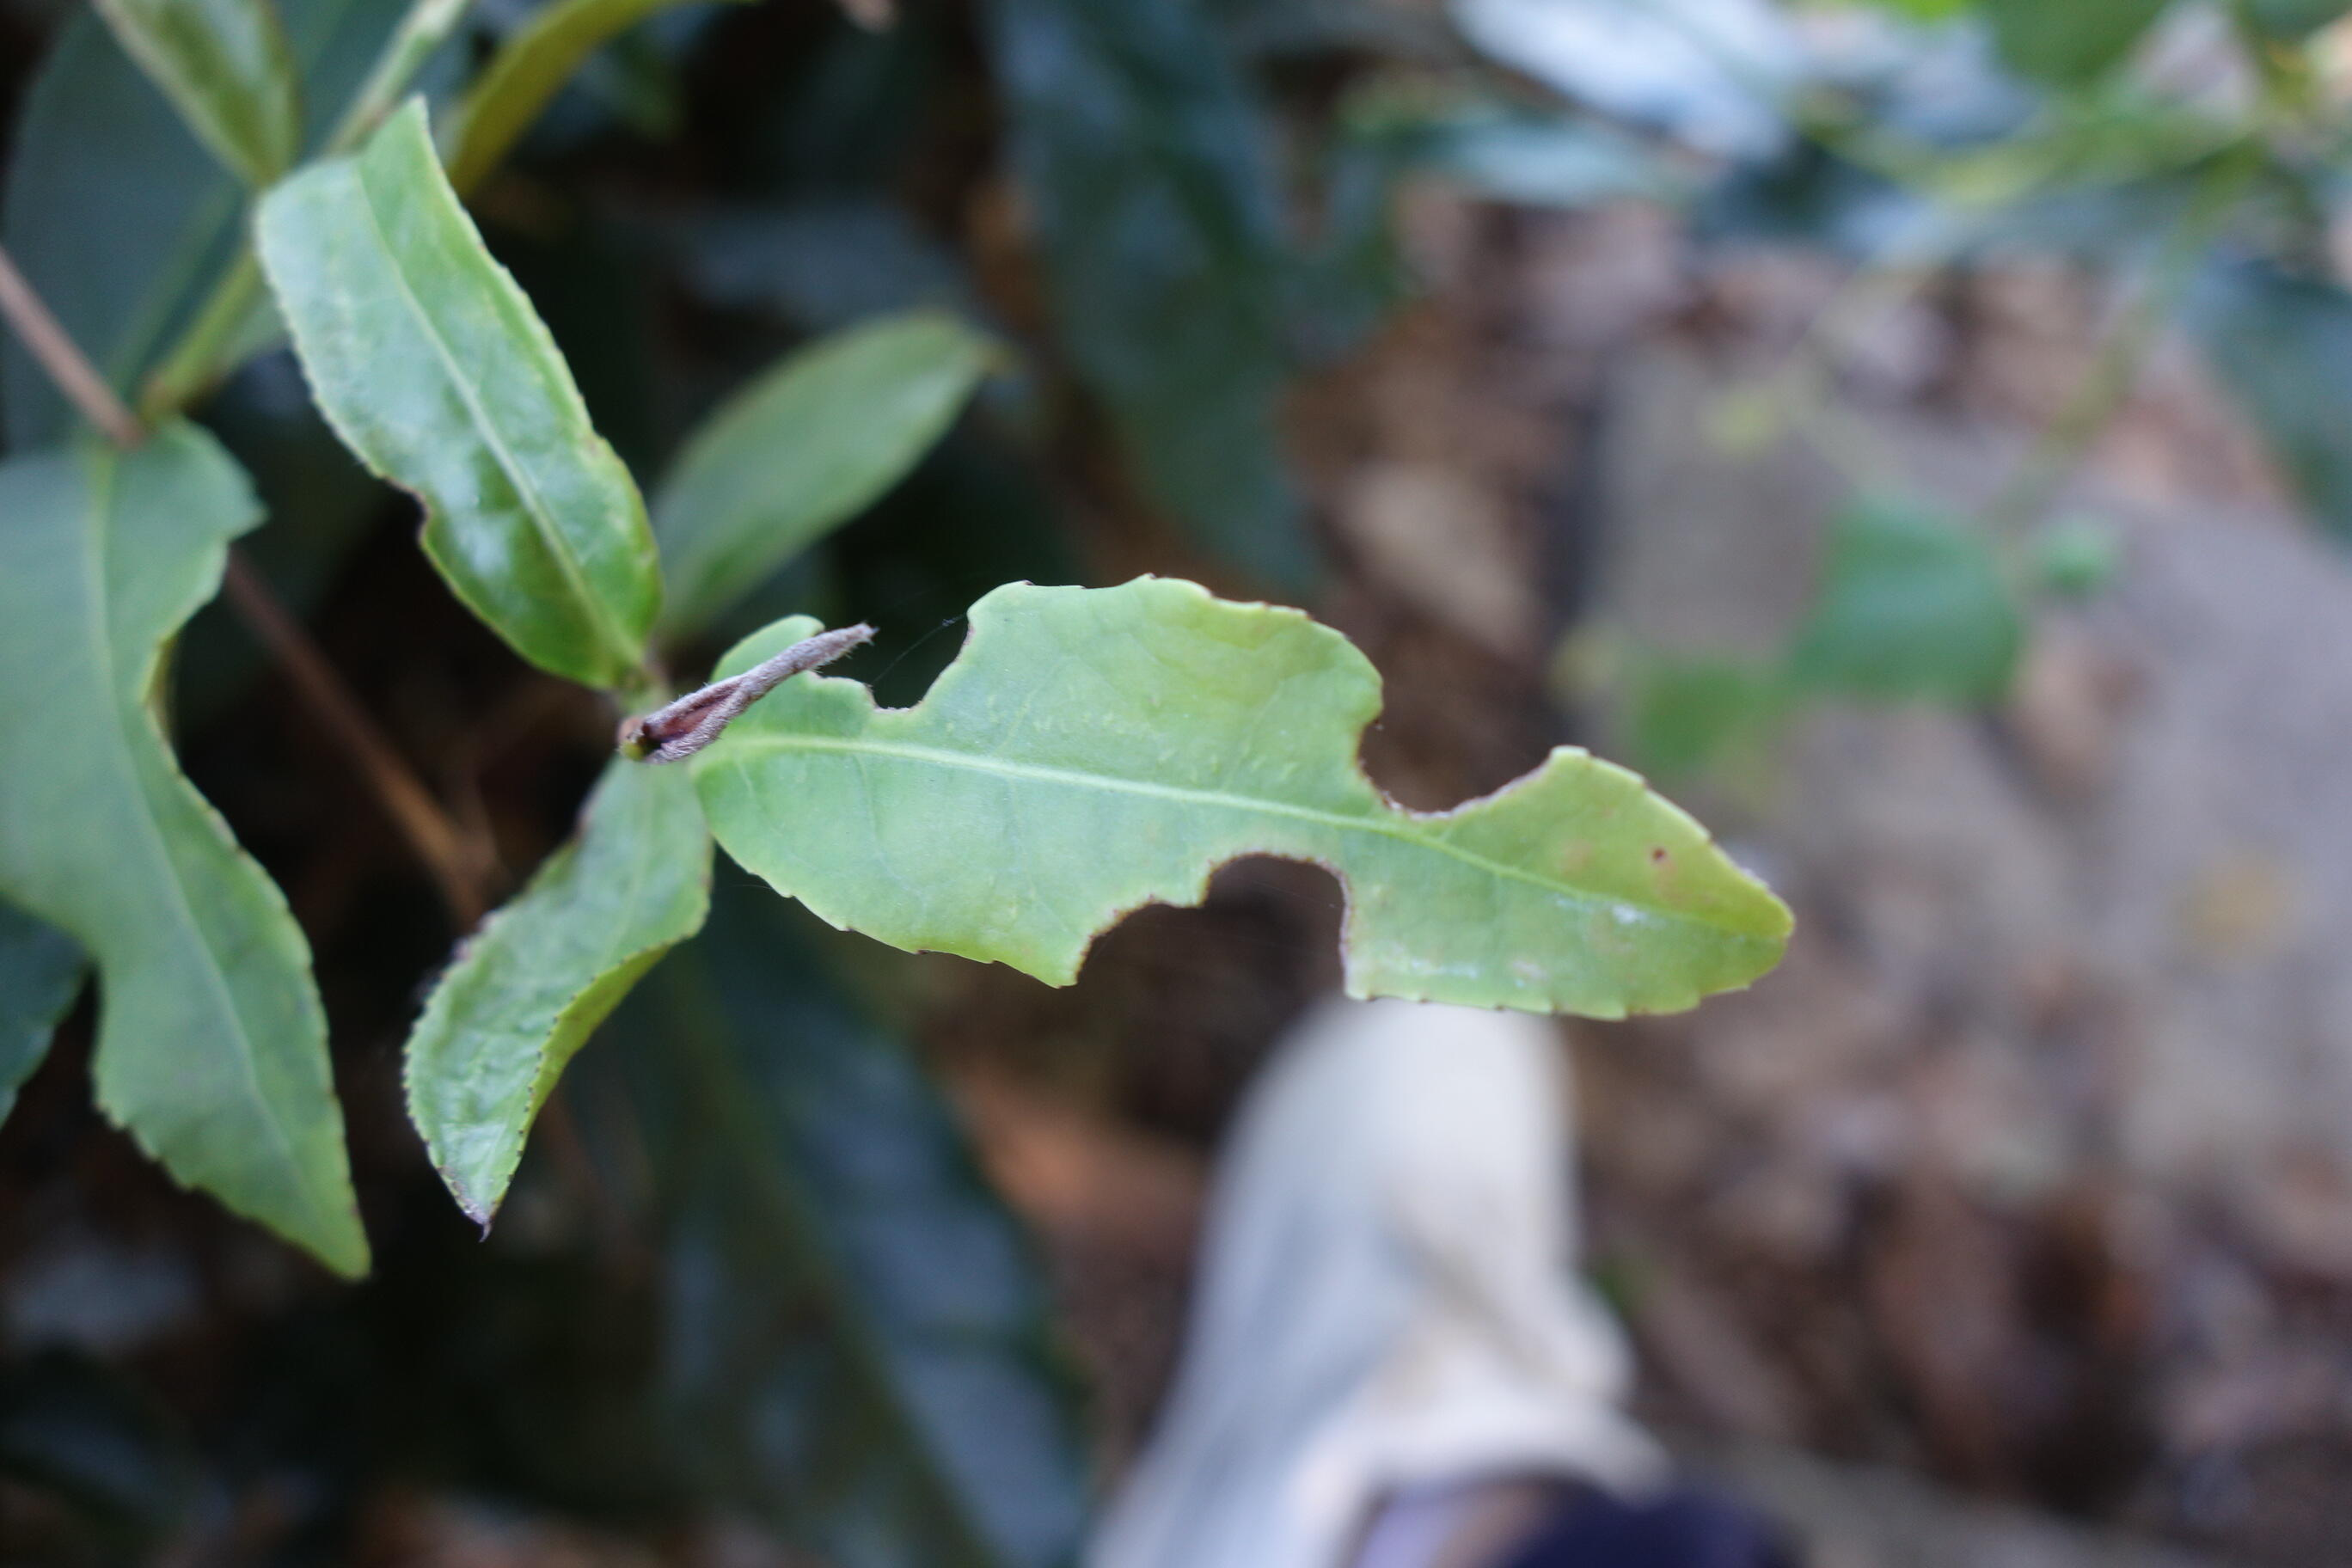chihuo_high: (700, 570, 1801, 1034)
chihuo_low: (250, 94, 677, 691)
